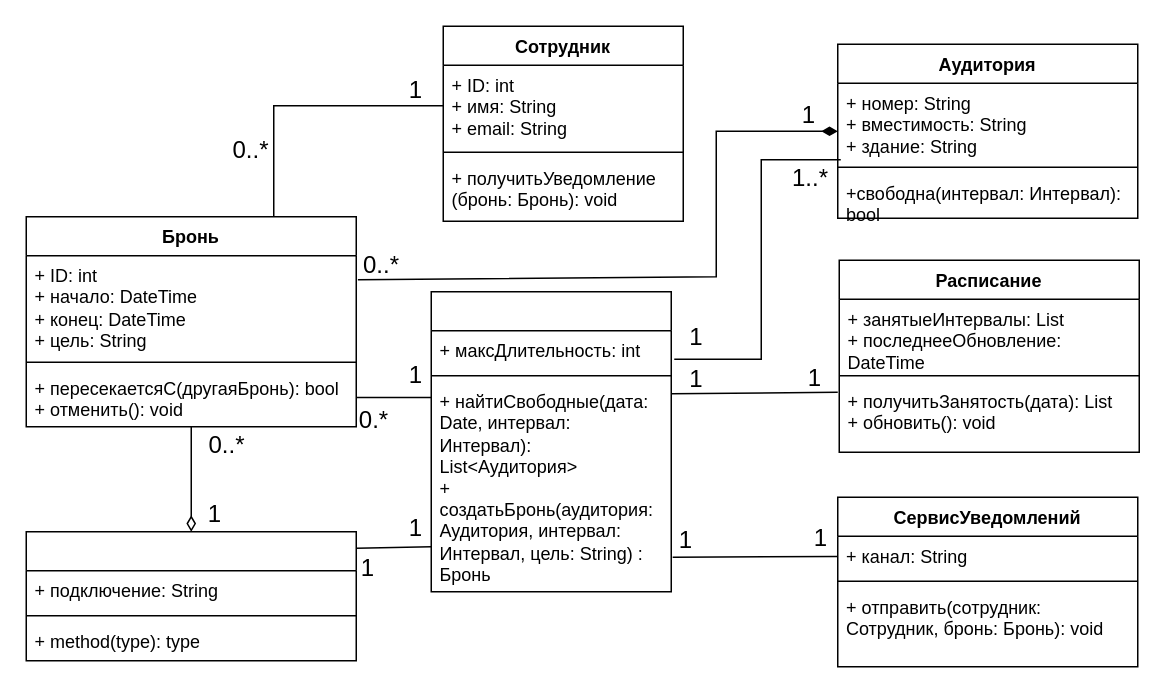
The diagram is 1166 pixels wide and 698 high, and some of its shapes have lost their labels. The box of each missing label's shape, as (x1, y1, x2, y2) in pixels:
СервисБронирования: (430, 290, 671, 592)
ХранилищеБроней: (25, 530, 356, 661)
